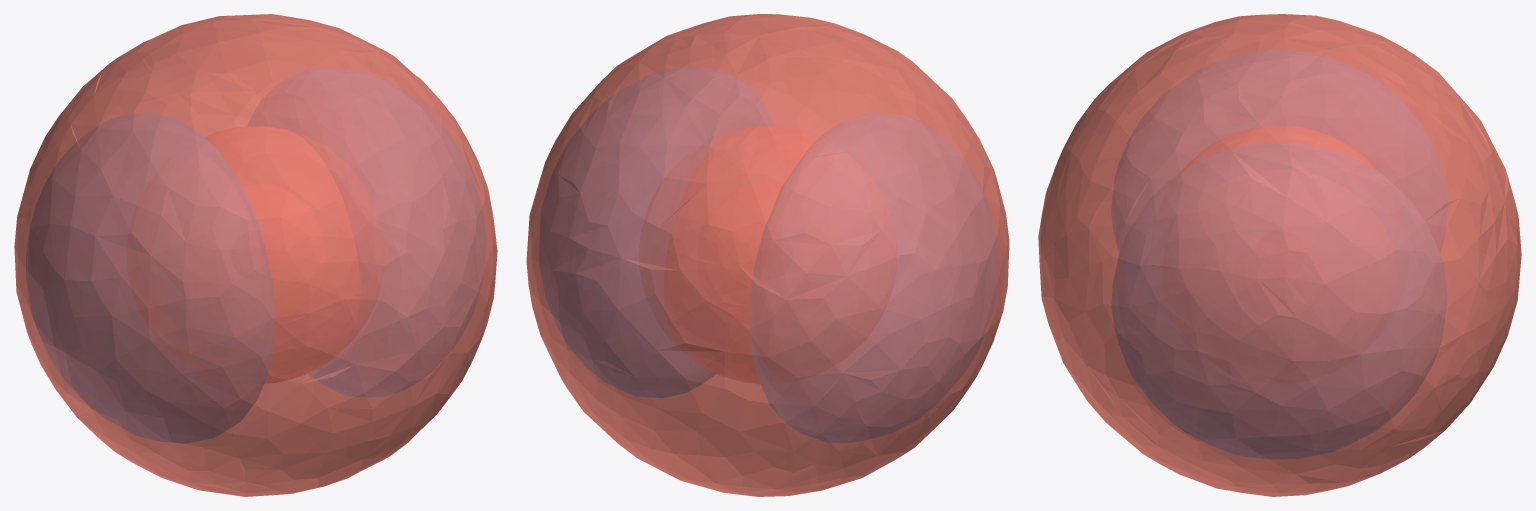
File: orbital.glb
3 views of the same model, side by side, from view 1: azimuth 30°, elevation 25°; view 2: azimuth 150°, elevation 25°; view 3: azimuth 270°, elevation 25° (orthographic).
Visible parts, largest first — view 1: B_n2_s_ml0_node, B_n2_p_ml1_node, B_n1_s_ml0_node; view 2: B_n2_s_ml0_node, B_n2_p_ml1_node, B_n1_s_ml0_node; view 3: B_n2_s_ml0_node, B_n2_p_ml1_node, B_n1_s_ml0_node.
Boxes of the visible parts, x1,y1,x2,y2 form: B_n2_s_ml0_node: (14, 14, 497, 496); B_n2_p_ml1_node: (26, 67, 485, 442); B_n1_s_ml0_node: (205, 126, 360, 383); B_n2_s_ml0_node: (526, 14, 1009, 496); B_n2_p_ml1_node: (539, 67, 997, 442); B_n1_s_ml0_node: (664, 126, 818, 383); B_n2_s_ml0_node: (1038, 14, 1521, 496); B_n2_p_ml1_node: (1111, 50, 1447, 458); B_n1_s_ml0_node: (1180, 126, 1375, 172).
Size of the model in its own units: 1.07 by 1.07 by 1.07.
